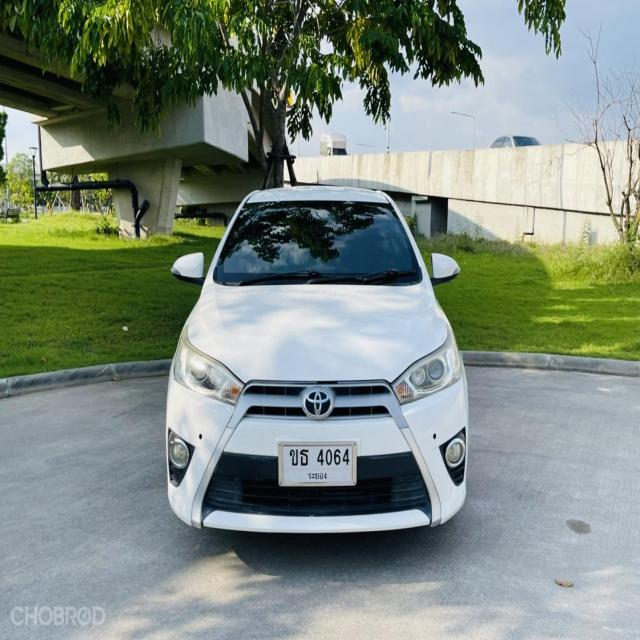license_plate: (277, 437, 358, 489)
